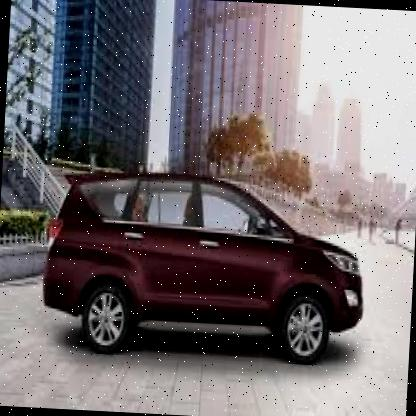car: (32, 158, 374, 374)
